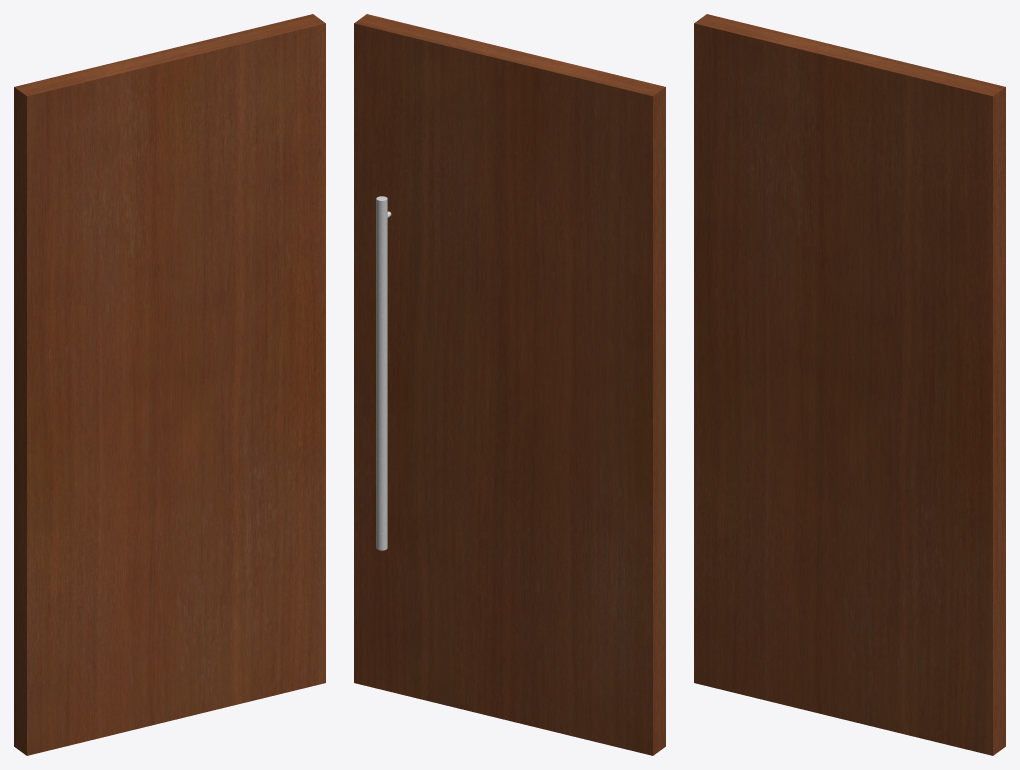
File: doa.fbx
3 views of the same model, side by side, from view 1: azimuth 30°, elevation 25°; view 2: azimuth 150°, elevation 25°; view 3: azimuth 330°, elevation 25° (orthographic).
Parts seen in each view (by area): view 1: 立方体.003; view 2: 立方体.003; view 3: 立方体.003.
Part boxes in pixels (box(x1,y1,x2,y2)): 立方体.003: box(14, 14, 325, 755); 立方体.003: box(354, 14, 665, 755); 立方体.003: box(694, 14, 1005, 755).
Size of the model in its own units: 121 by 256 by 15.97.
